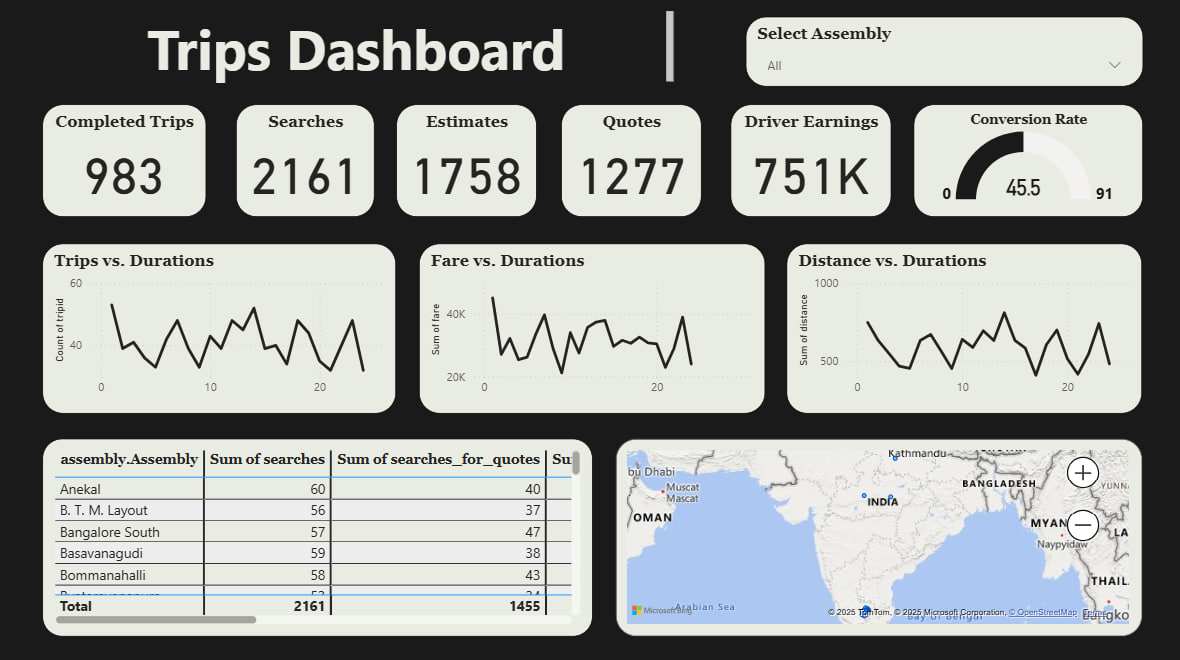

What the dashboard file says about the page in this screenshot:
{"tool":"powerbi","page":{"name":"Page 1","canvas":[1280,720],"ordinal":0},"visuals":[{"type":"card","title":"Completed Trips","fields":{"Values":["Sum(trip_details.end_ride)"]},"box":[55,117.5,175,120],"z":0},{"type":"card","title":"Searches","fields":{"Values":["Sum(trip_details.searches)"]},"box":[261.7,117.5,148.3,120],"z":1000},{"type":"card","title":"Estimates","fields":{"Values":["Sum(trip_details.searches_got_estimate)"]},"box":[433.3,117.5,150,120],"z":2000},{"type":"card","title":"Quotes","fields":{"Values":["Sum(trip_details.searches_got_quotes)"]},"box":[610,117.5,150,120],"z":3000},{"type":"card","title":"Driver Earnings","fields":{"Values":["Sum(trips.fare)"]},"box":[791.7,117.5,171.7,120],"z":4000},{"type":"gauge","title":"Conversion Rate","fields":{"Y":["trip_details.Conversion_rate","select"]},"box":[986.7,117.5,245,120],"z":5000},{"type":"lineChart","title":"Trips vs. Durations","fields":{"Category":["trips.duration"],"Y":["CountNonNull(trips.tripid)"]},"box":[55,267.5,378.3,181.7],"z":6000},{"type":"lineChart","title":"Fare vs. Durations","fields":{"Category":["trips.duration"],"Y":["Sum(trips.fare)"]},"box":[458.3,267.5,370,181.7],"z":7000},{"type":"lineChart","title":"Distance vs. Durations","fields":{"Category":["trips.duration"],"Y":["Sum(trips.distance)"]},"box":[851.7,267.5,380,181.7],"z":8000},{"type":"tableEx","fields":{"Values":["Merge2.assembly.Assembly","Sum(Merge2.searches)","Sum(Merge2.searches_for_quotes)","Sum(Merge2.searches_got_estimate)","Sum(Merge2.searches_got_quotes)","Sum(Merge2.trips.fare)","Sum(trips.distance)","trip_details.Conversion_rate"]},"box":[55,475.8,588.3,211.7],"z":9000},{"type":"map","fields":{"Category":["Merge2.assembly.Assembly"]},"box":[668.3,475.8,563.3,211.7],"z":10000},{"type":"slicer","title":"Select Assembly","fields":{"Values":["Merge2.assembly.Assembly"]},"box":[806.7,25,425,75],"z":11000},{"type":"textbox","box":[55,13.3,680,86.7],"z":11001}]}

Visuals, with their boxes in screenshot pixels (x1, y1, x2, y2), scaled from the page's 1280x720 canvas onto the 1180x660 screenshot:
"Completed Trips" card: x1=51, y1=108, x2=212, y2=218
"Searches" card: x1=241, y1=108, x2=378, y2=218
"Estimates" card: x1=399, y1=108, x2=538, y2=218
"Quotes" card: x1=562, y1=108, x2=701, y2=218
"Driver Earnings" card: x1=730, y1=108, x2=888, y2=218
"Conversion Rate" gauge: x1=910, y1=108, x2=1135, y2=218
"Trips vs. Durations" lineChart: x1=51, y1=245, x2=399, y2=412
"Fare vs. Durations" lineChart: x1=422, y1=245, x2=764, y2=412
"Distance vs. Durations" lineChart: x1=785, y1=245, x2=1135, y2=412
tableEx - Merge2.assembly.Assembly x Sum(Merge2.searches): x1=51, y1=436, x2=593, y2=630
map - Merge2.assembly.Assembly: x1=616, y1=436, x2=1135, y2=630
"Select Assembly" slicer: x1=744, y1=23, x2=1135, y2=92
textbox: x1=51, y1=12, x2=678, y2=92
